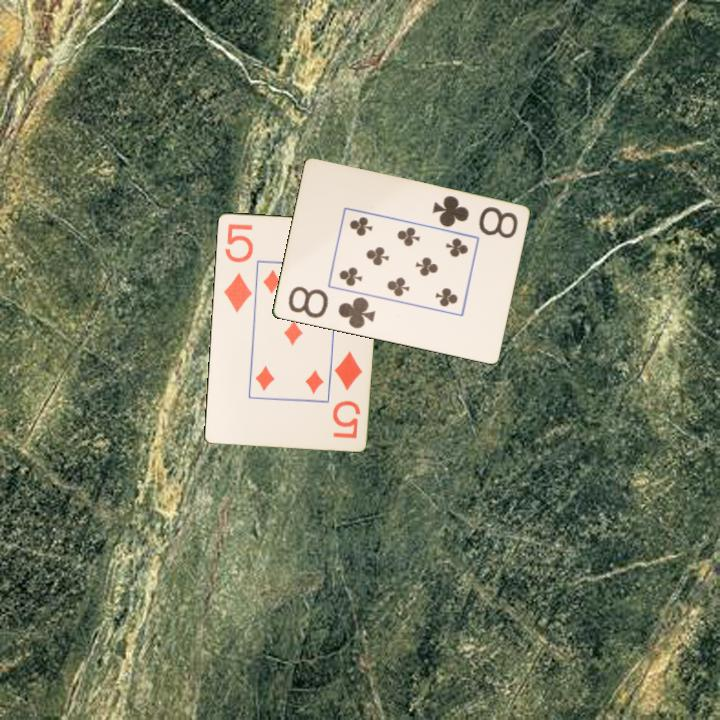5d: (328, 348, 365, 441), (220, 220, 256, 315)
8c: (284, 283, 378, 332), (429, 192, 520, 242)
